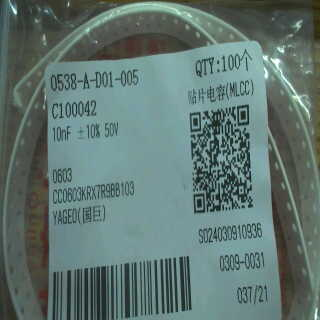10nF: (50, 123, 72, 147)
